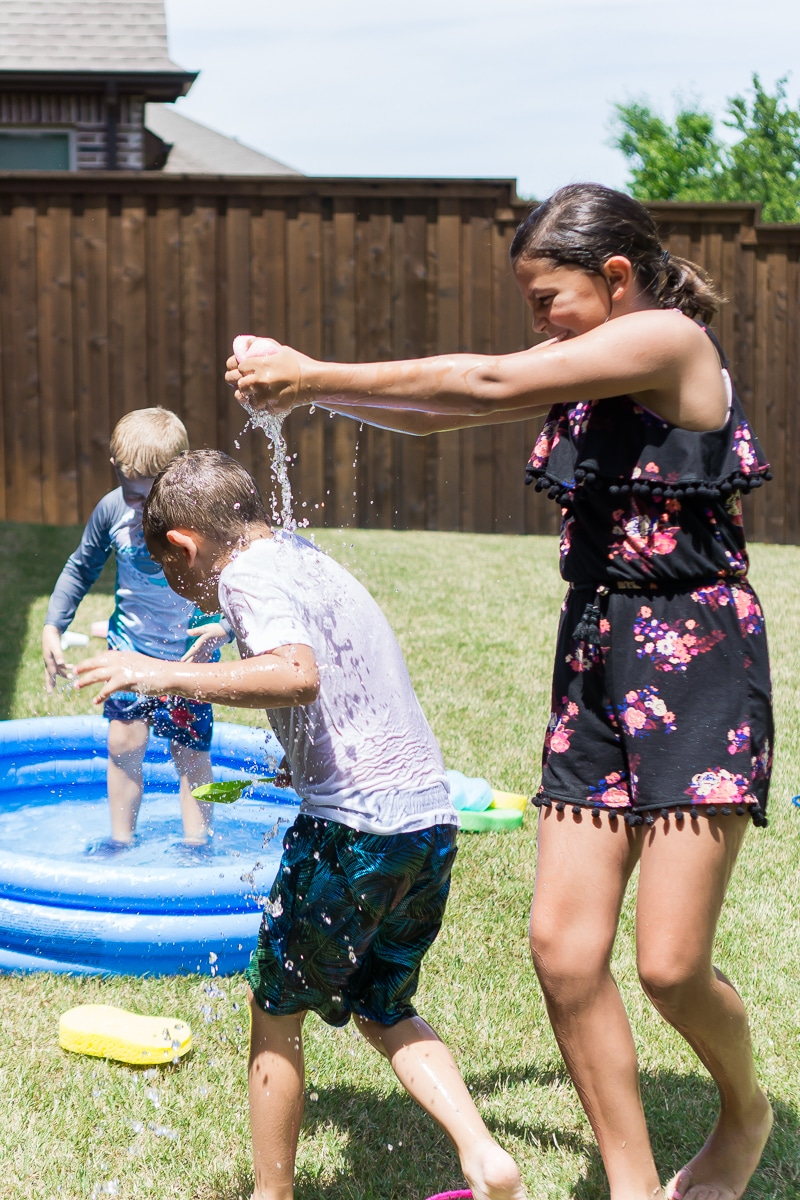Person: (218, 174, 785, 1200), (67, 431, 527, 1200), (36, 378, 262, 843)
